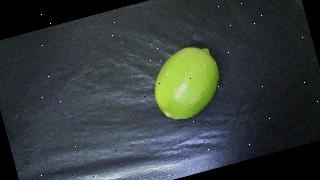LOCAL: (145, 41, 229, 125)
